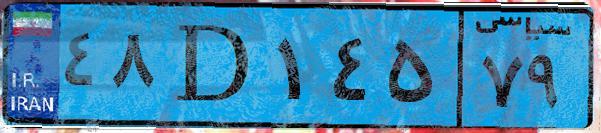1: (270, 28, 330, 110)
4: (330, 28, 385, 110), (57, 26, 110, 100)
5: (385, 28, 445, 110)
7: (475, 38, 525, 113)
8: (110, 28, 158, 98)
9: (525, 38, 570, 115)
D: (158, 12, 270, 120)
